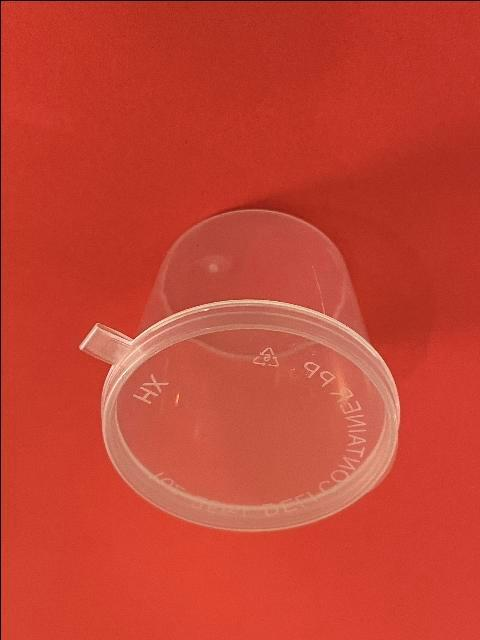plasticcontainer: (73, 203, 404, 534)
